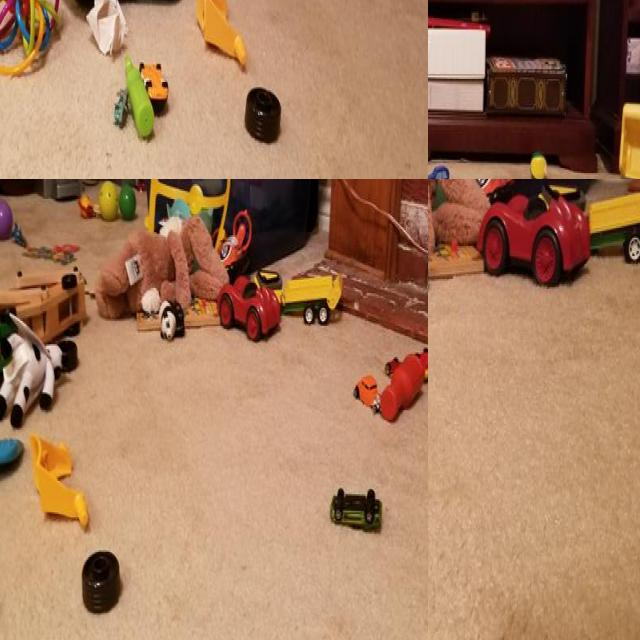toy: (113, 217, 229, 311), (484, 190, 590, 286), (0, 273, 96, 377), (0, 325, 81, 410), (34, 427, 91, 535), (184, 0, 252, 73), (588, 179, 640, 269), (279, 257, 344, 327), (217, 273, 284, 339), (0, 0, 59, 73), (378, 342, 428, 422), (330, 483, 387, 535), (124, 51, 158, 138), (80, 549, 122, 616), (133, 295, 219, 327), (241, 93, 285, 142), (24, 226, 80, 264), (139, 43, 169, 107), (349, 370, 384, 422), (619, 105, 640, 179), (0, 430, 24, 486), (161, 292, 184, 337), (108, 84, 130, 130), (466, 179, 518, 198), (117, 179, 138, 219), (0, 191, 15, 245), (100, 179, 117, 222), (11, 212, 27, 250), (78, 193, 95, 224), (529, 150, 547, 179), (428, 168, 453, 179)
